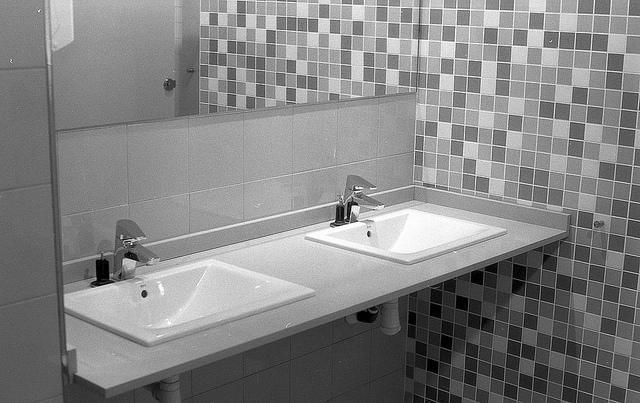Lavamanos: (61, 203, 321, 350), (307, 177, 511, 270)
